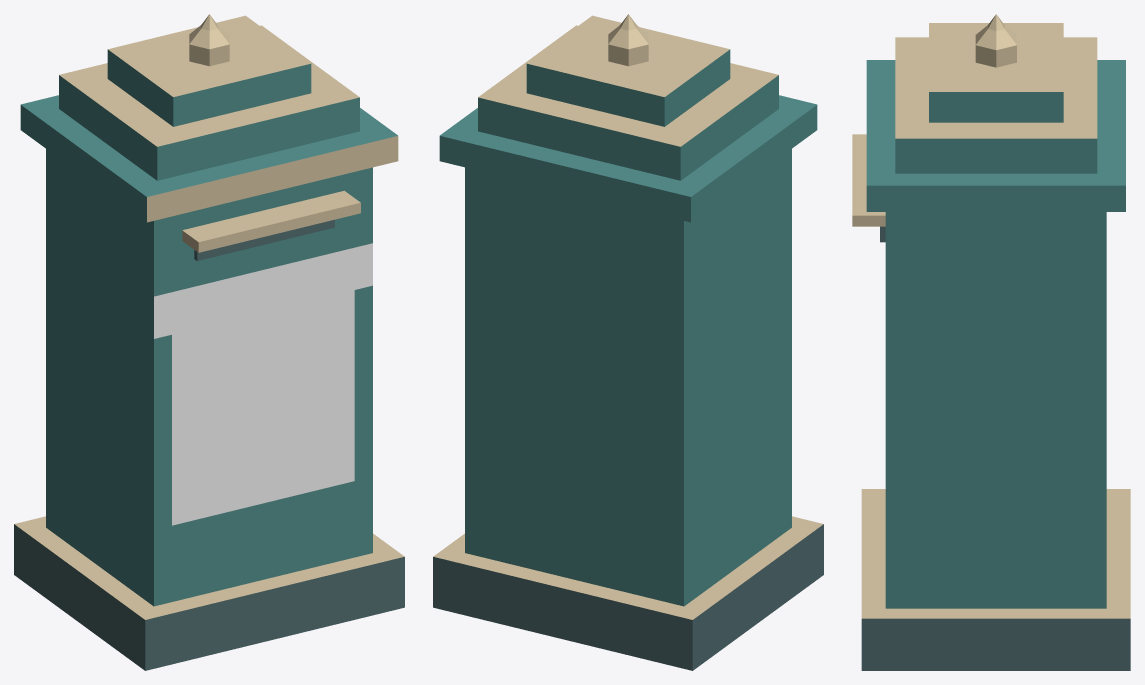
The model's file is KC32__AD_Ext_Mailbox.glb.
3 renders of one model, left to right at view 1: azimuth 30°, elevation 25°; view 2: azimuth 150°, elevation 25°; view 3: azimuth 270°, elevation 25°, orthographic. The views are drawn at different scales.
Parts seen in each view (by area): view 1: KC32_CORPS__AD_Ext_Mailbox, KC32_ACCENT__AD_Ext_Mailbox, KC32_BRONZE__AD_Ext_Mailbox; view 2: KC32_CORPS__AD_Ext_Mailbox, KC32_BRONZE__AD_Ext_Mailbox; view 3: KC32_CORPS__AD_Ext_Mailbox, KC32_BRONZE__AD_Ext_Mailbox.
Part boxes in pixels (x1,y1,x2,y2): KC32_CORPS__AD_Ext_Mailbox: (14, 49, 404, 670); KC32_ACCENT__AD_Ext_Mailbox: (154, 243, 372, 525); KC32_BRONZE__AD_Ext_Mailbox: (14, 14, 404, 619); KC32_CORPS__AD_Ext_Mailbox: (433, 49, 823, 670); KC32_BRONZE__AD_Ext_Mailbox: (433, 14, 823, 619); KC32_CORPS__AD_Ext_Mailbox: (861, 60, 1130, 670); KC32_BRONZE__AD_Ext_Mailbox: (852, 14, 1130, 618).
Size of the model in its own units: 0.64 by 1.36 by 0.58.
